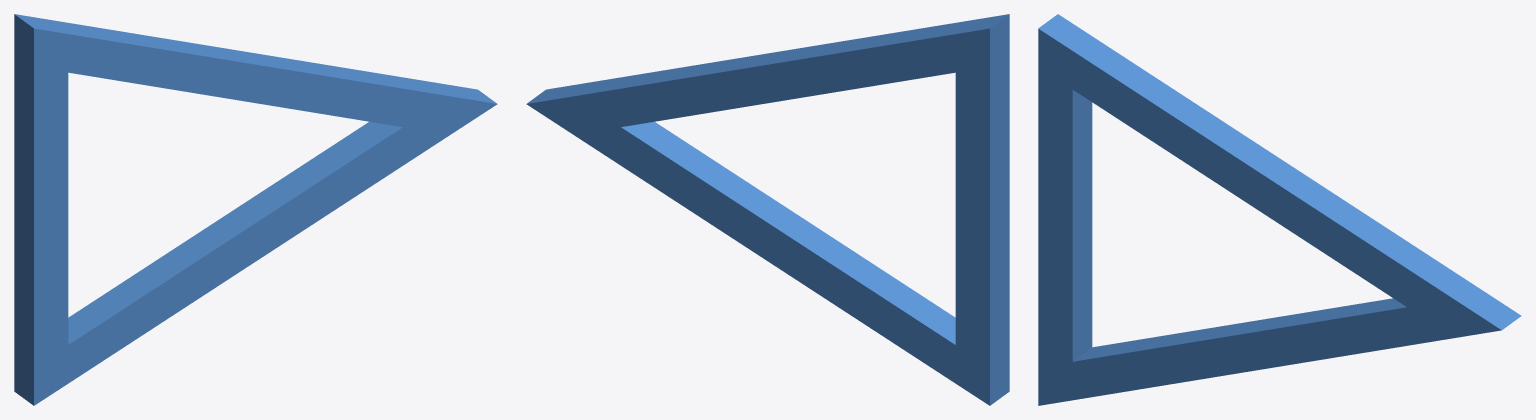
Rendered from suspension.obj.
3 views of the same model, side by side, from view 1: azimuth 30°, elevation 25°; view 2: azimuth 150°, elevation 25°; view 3: azimuth 330°, elevation 25° (orthographic).
Visible parts, largest first — view 1: sospensione; view 2: sospensione; view 3: sospensione.
Part boxes in pixels (box(x1,y1,x2,y2)): sospensione: box(14, 14, 497, 405); sospensione: box(526, 14, 1009, 405); sospensione: box(1038, 14, 1521, 405).
Size of the model in its own units: 135 by 105 by 10.
